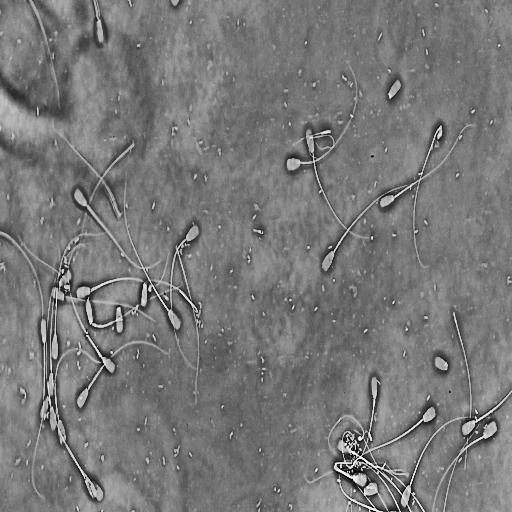folded-tail: (91, 285, 181, 328)
loose-head: (434, 352, 452, 375), (387, 76, 403, 101), (139, 279, 150, 310), (114, 302, 124, 336)
loose-tail: (74, 138, 138, 260), (52, 123, 123, 223), (412, 122, 445, 269), (174, 241, 201, 409), (450, 304, 473, 474)
normal: (123, 169, 183, 334), (378, 121, 478, 210), (321, 182, 418, 272), (285, 58, 359, 174), (305, 126, 377, 241), (72, 186, 165, 273), (400, 414, 477, 510), (66, 241, 118, 376), (75, 340, 170, 411), (431, 418, 499, 512), (169, 222, 204, 373), (75, 251, 171, 302), (54, 348, 102, 447), (361, 401, 438, 457), (85, 285, 182, 328), (460, 386, 512, 439), (32, 319, 47, 499), (358, 372, 379, 463), (47, 271, 61, 398)
